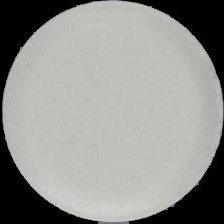43353-747: (0, 0, 224, 224)
